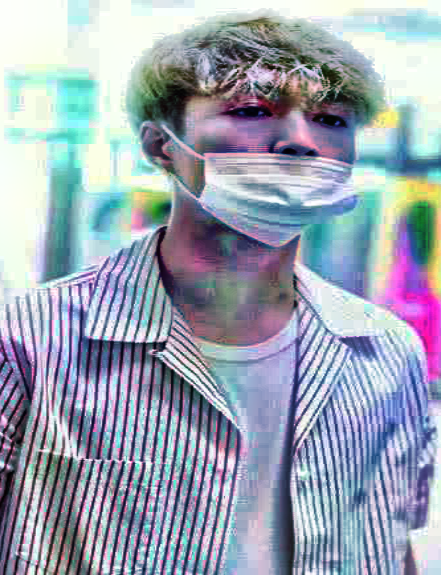mask_weared_incorrect: (178, 97, 362, 251)
